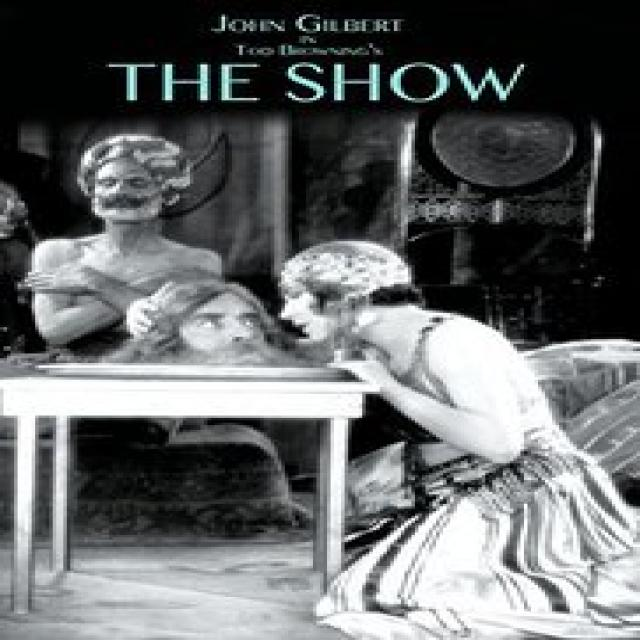movie-judul: (67, 10, 563, 110)
picture: (10, 126, 640, 636)
